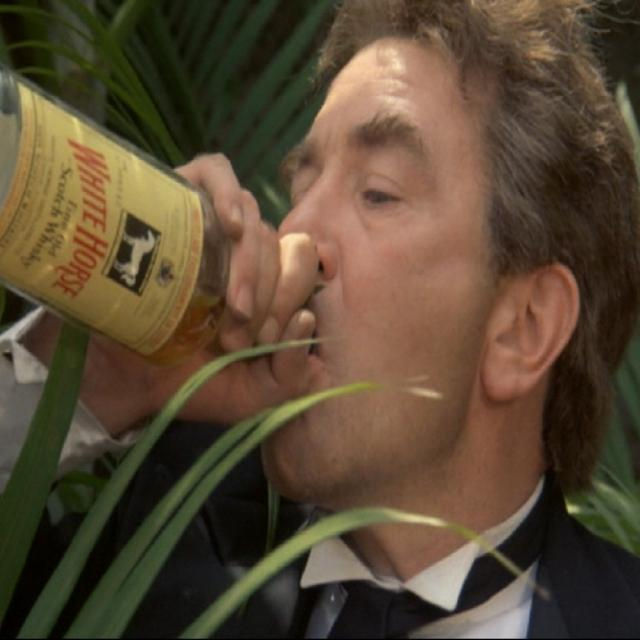Drinking: (3, 66, 576, 495)
